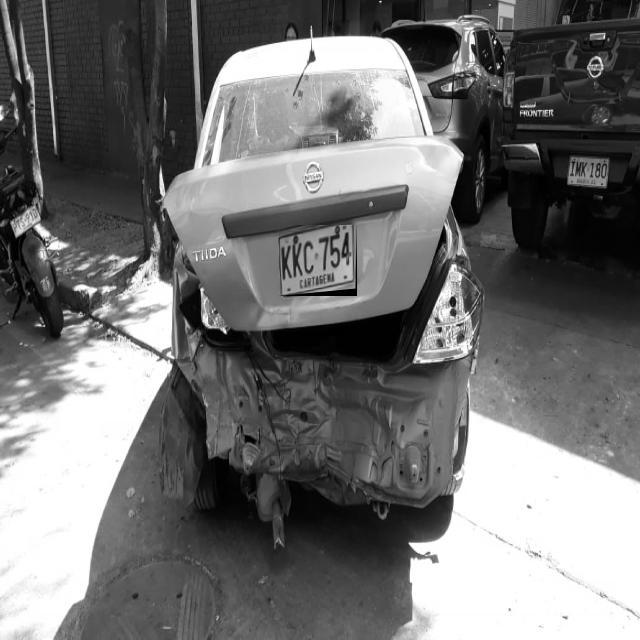plate: (279, 225, 357, 296)
